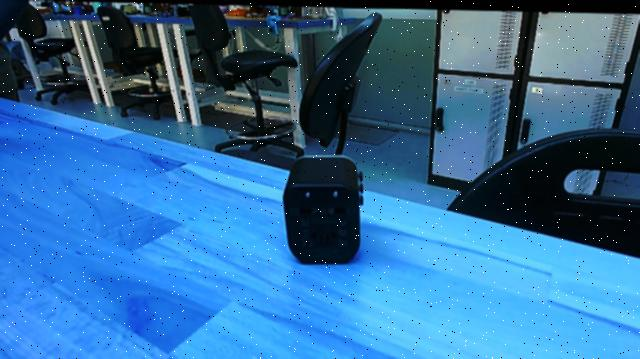adapter: (275, 149, 371, 278)
